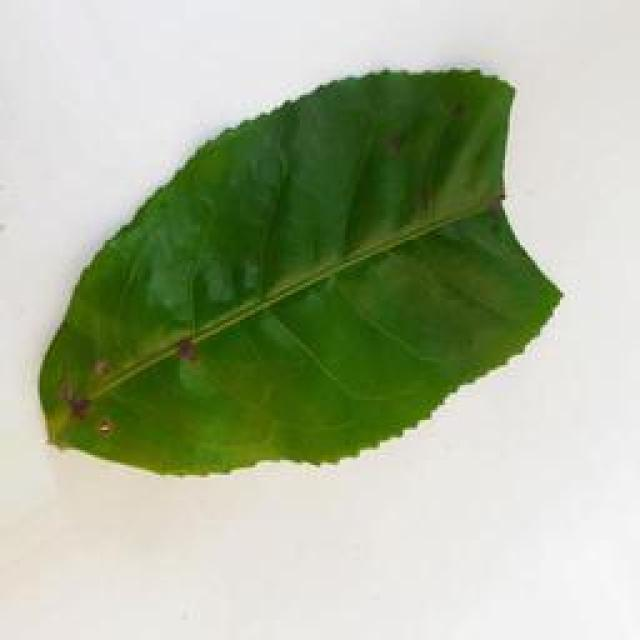Helopeltis: (30, 57, 561, 485)
